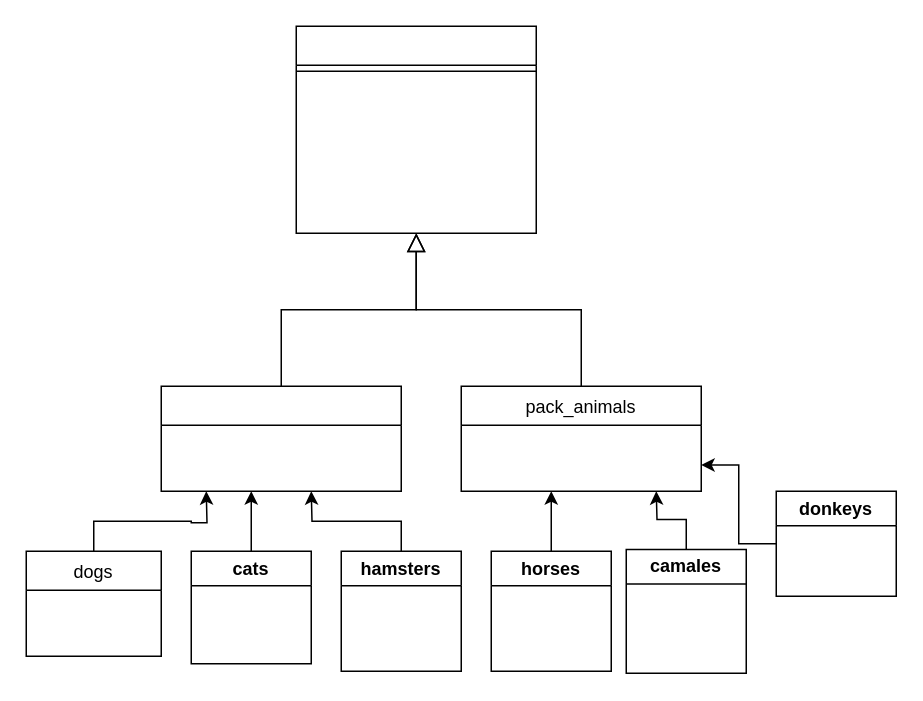
This 923x701 diagram has some shape labels left out. Each missing label, with the box of its shape:
Friends_mens: (295, 25, 536, 233)
home_animals: (160, 385, 401, 491)
